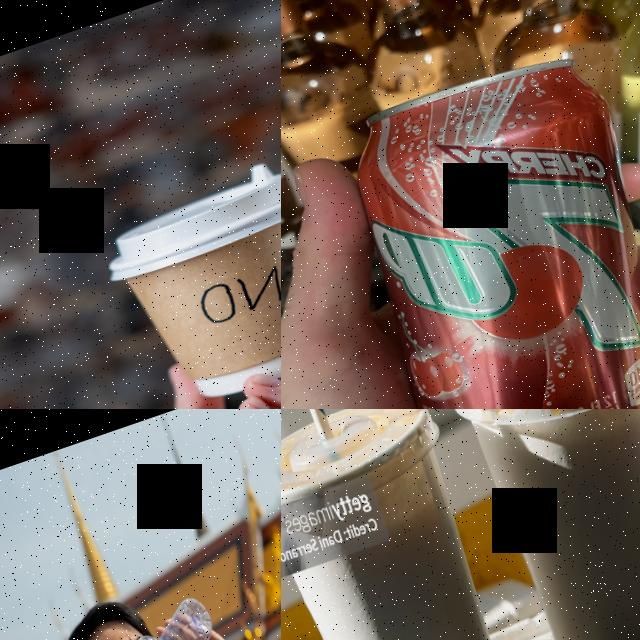bottle: (125, 592, 228, 640)
can: (318, 41, 640, 409)
cup: (89, 159, 281, 409), (438, 409, 640, 640)
